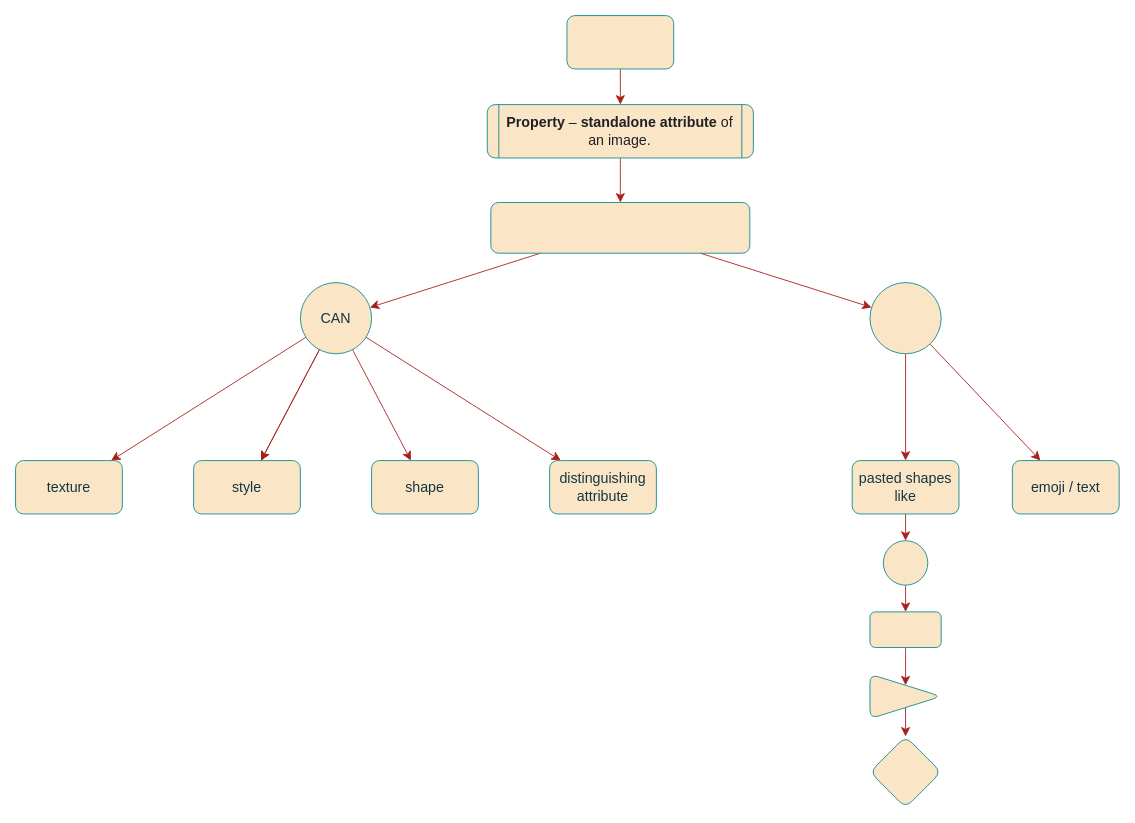
This 1135x823 diagram has some shape labels left out. The shapes that lost their labels are listed below. From the top down, each one's box as (x1, y1, x2, y2) in pixels, then its label:
(566, 15, 674, 69): What is property?
(490, 202, 750, 253): What can and cannot be a property?
(869, 282, 941, 354): CANNOT
(869, 736, 941, 808): another..
